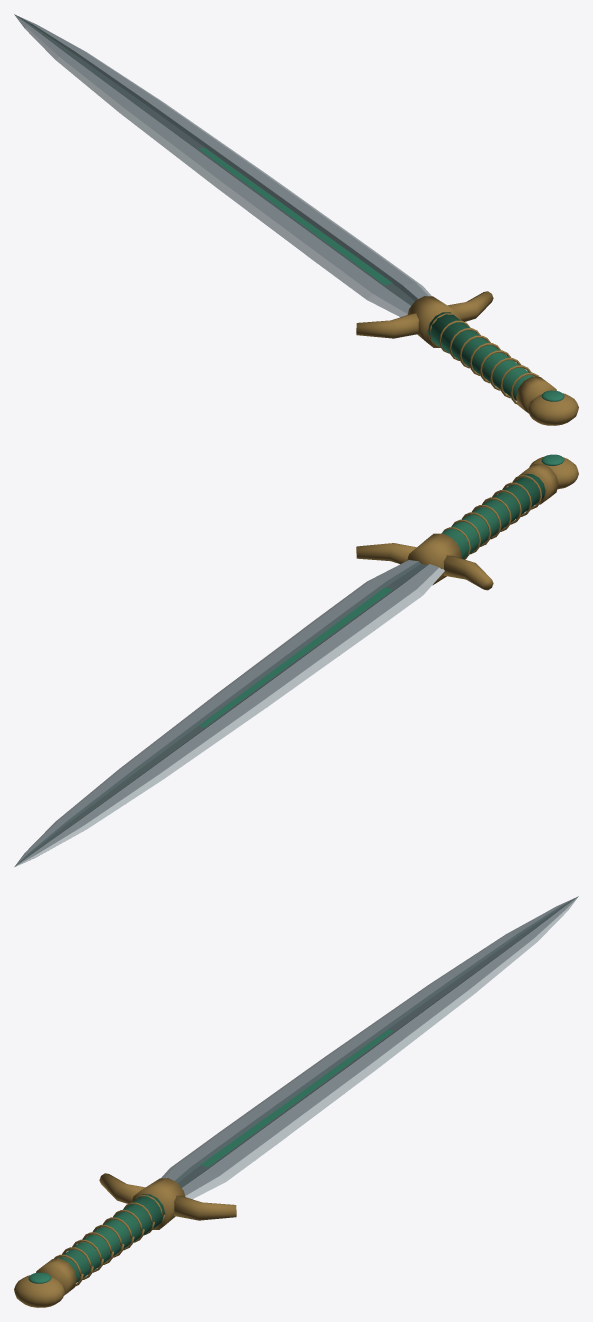
Rendered from jade.glb.
3 renders of one model, top to bottom at view 1: azimuth 30°, elevation 25°; view 2: azimuth 150°, elevation 25°; view 3: azimuth 330°, elevation 25°, orthographic.
Parts seen in each view (by area): view 1: MV_jade; view 2: MV_jade; view 3: MV_jade.
Part boxes in pixels (left/top/right/bottom): MV_jade: left=14, top=14, right=578, bottom=425; MV_jade: left=14, top=454, right=578, bottom=867; MV_jade: left=14, top=896, right=578, bottom=1307.
Bounding box in the file's own units: 0.1944 × 0.054 × 1.35.
